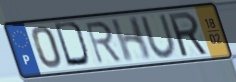0: (30, 25, 64, 70)
D: (52, 20, 93, 69)
H: (109, 14, 153, 64)
R: (166, 10, 210, 59), (83, 20, 124, 67)
U: (138, 12, 180, 60)
